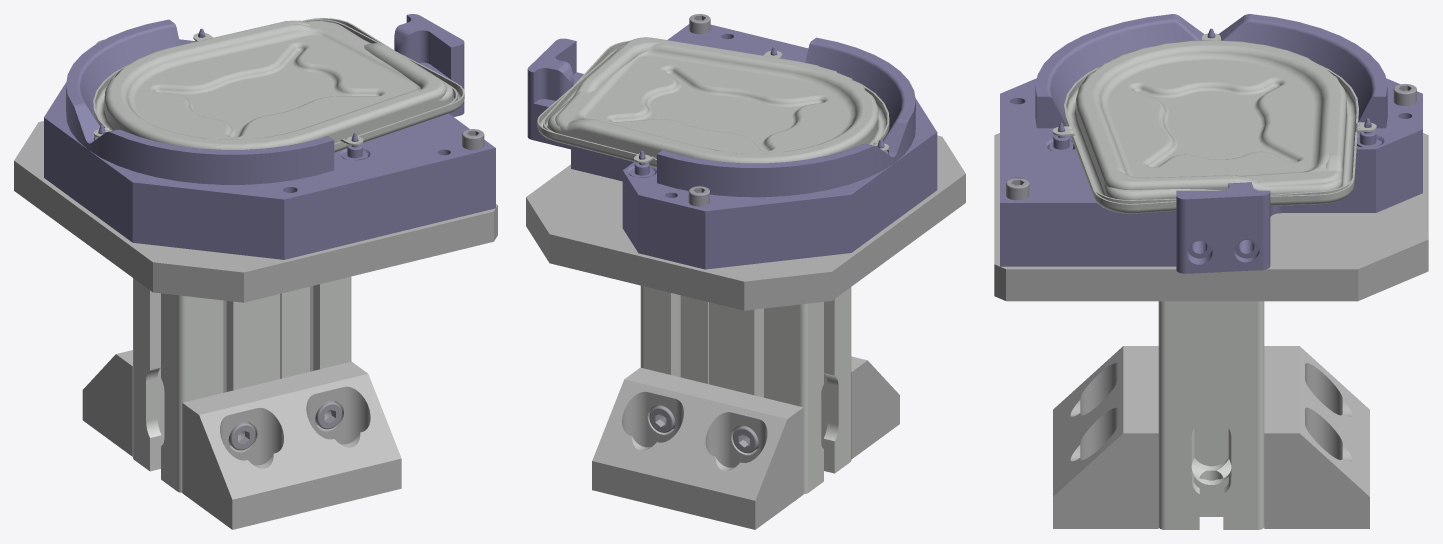
Rendered from ProductNest-transformed.glb.
3 renders of one model, left to right at view 1: azimuth 30°, elevation 25°; view 2: azimuth 150°, elevation 25°; view 3: azimuth 270°, elevation 25°, orthographic. The views are drawn at different scales.
Parts seen in each view (by area): view 1: GEPT030100000_4.ipt; view 2: GEPT030100000_4.ipt; view 3: GEPT030100000_4.ipt.
Part boxes in pixels (left/top/right/bottom): GEPT030100000_4.ipt: left=14, top=14, right=497, bottom=529; GEPT030100000_4.ipt: left=526, top=14, right=965, bottom=529; GEPT030100000_4.ipt: left=994, top=14, right=1428, bottom=529.
Bounding box in the file's own units: 0.1911 × 0.185 × 0.185.
1 material, 1 textured.
